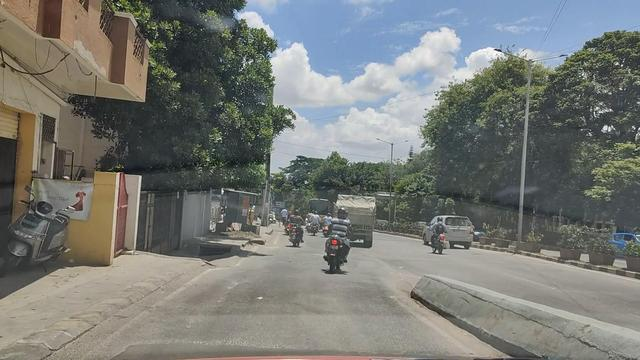HMV: (325, 189, 380, 247)
